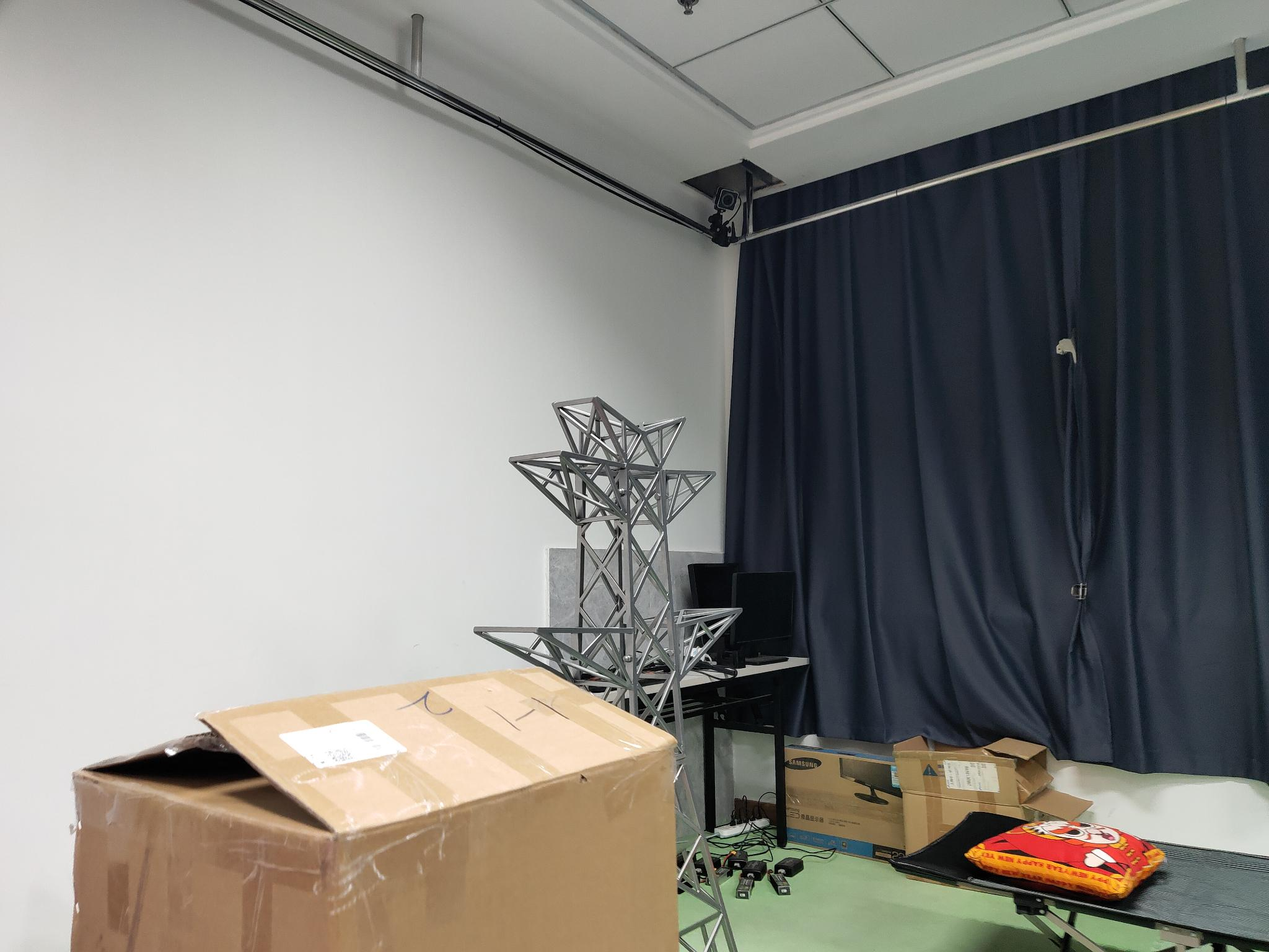tower: (493, 395, 741, 697)
